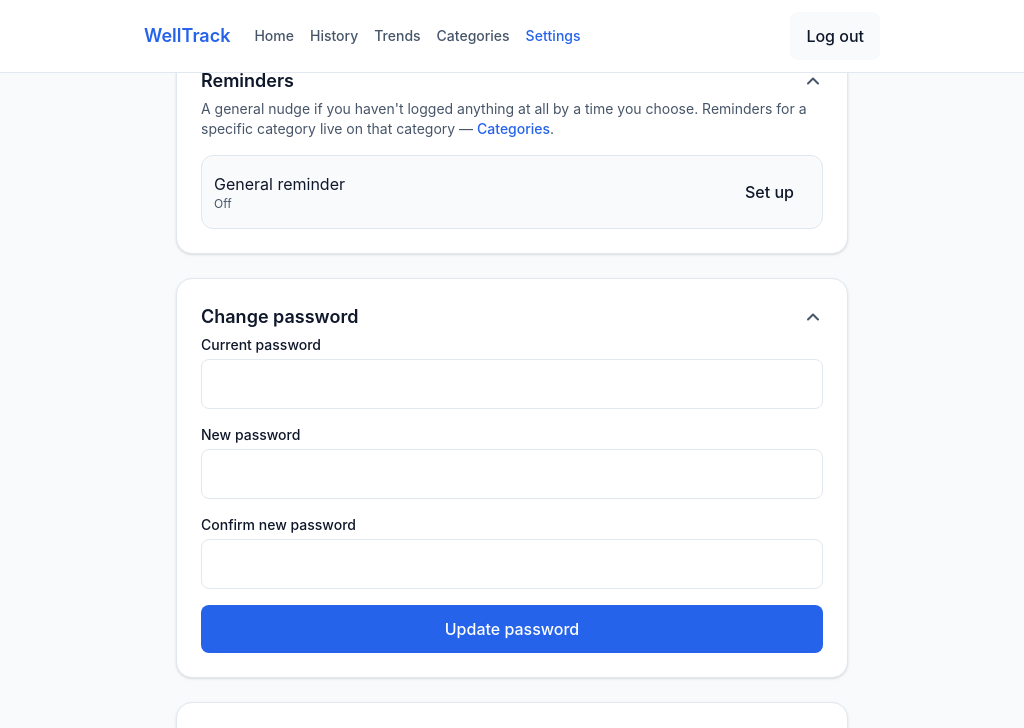
Scenario: SettingsPage — change password › requires the confirmation field to match the new password
(page scrolled)
Type "Sup3rSecret" into the password field labelled "Current password" at (512,384), box [201,359,823,409]
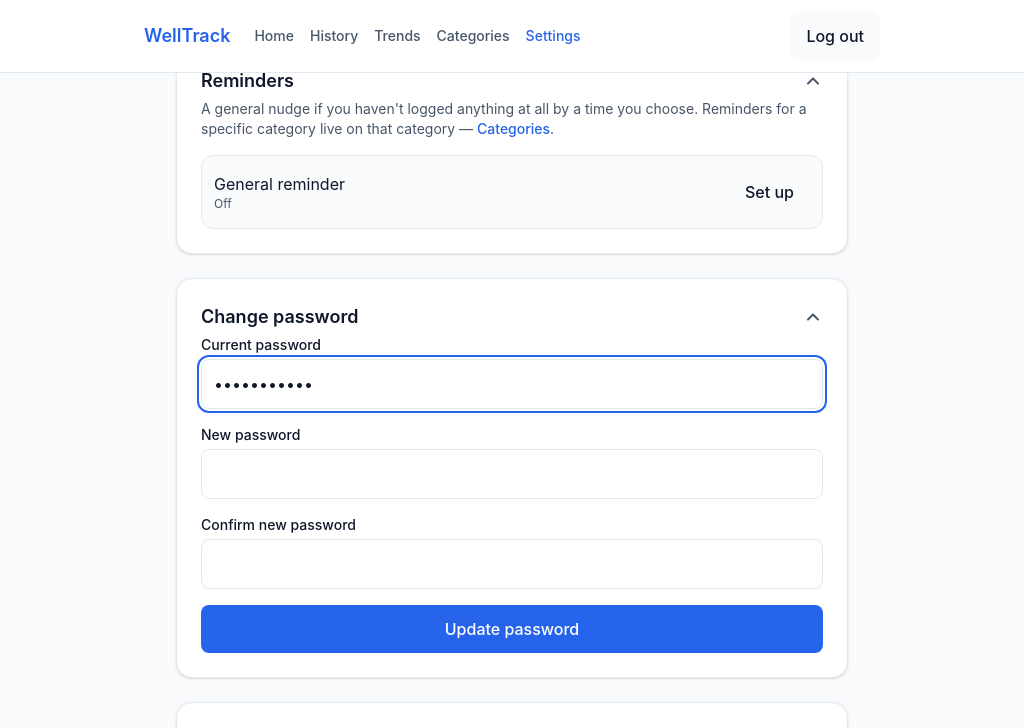
Type "NewPass1234" into the password field labelled "New password" at (512,474), box [201,449,823,499]
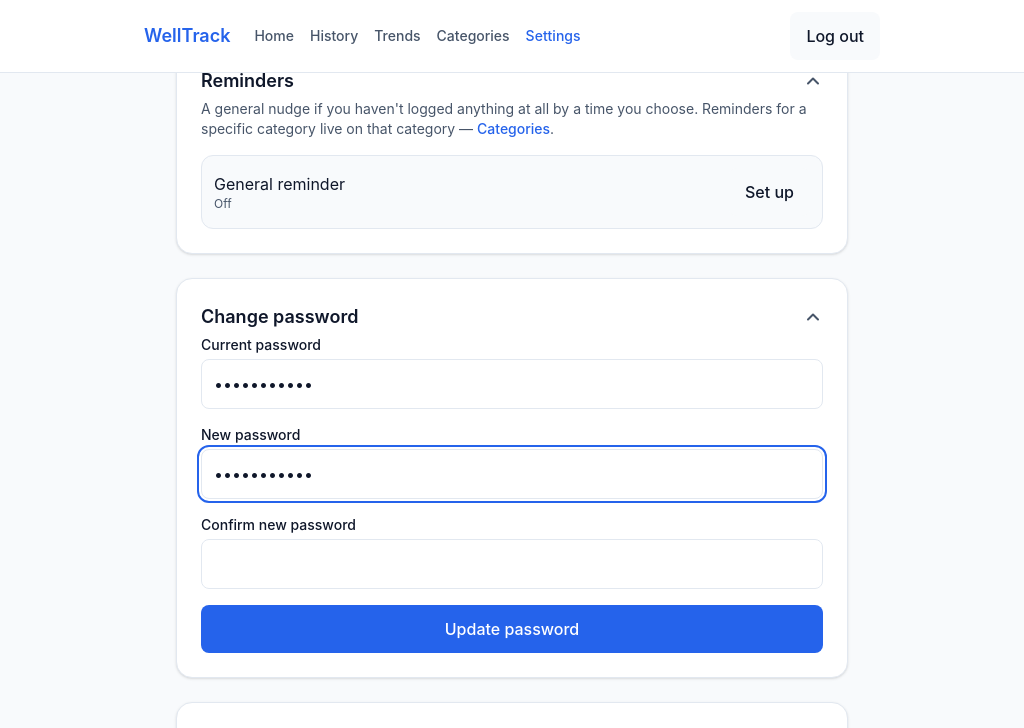
Type "Different1234" into the password field labelled "Confirm new password" at (512,564), box [201,539,823,589]
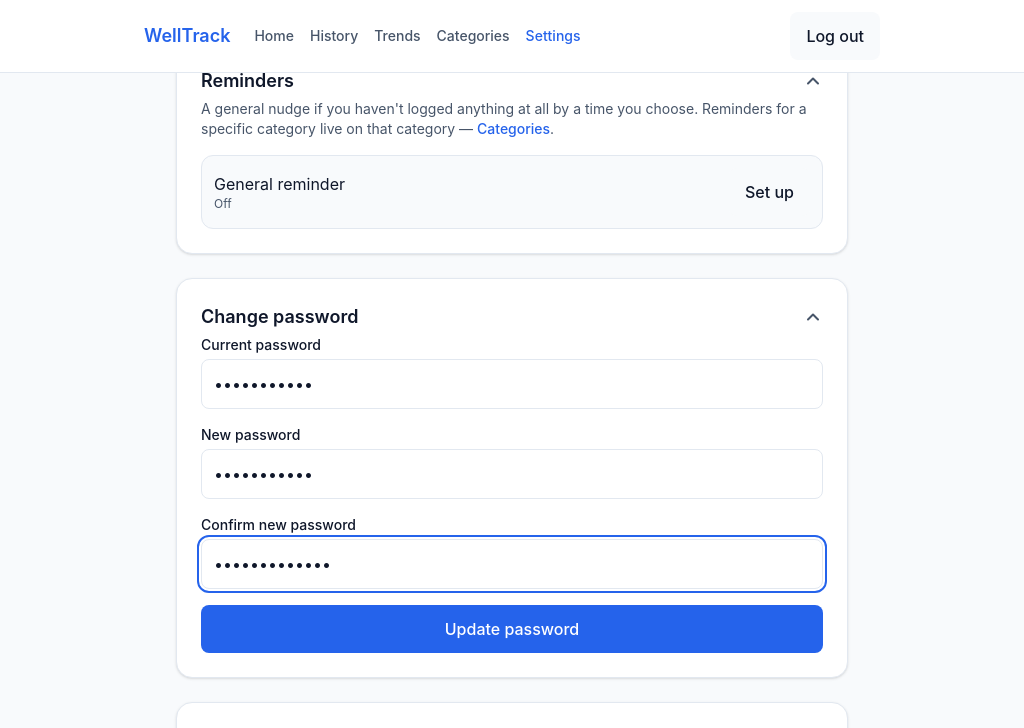
Click the button "Update password" at (512,629), box [201,605,823,653]
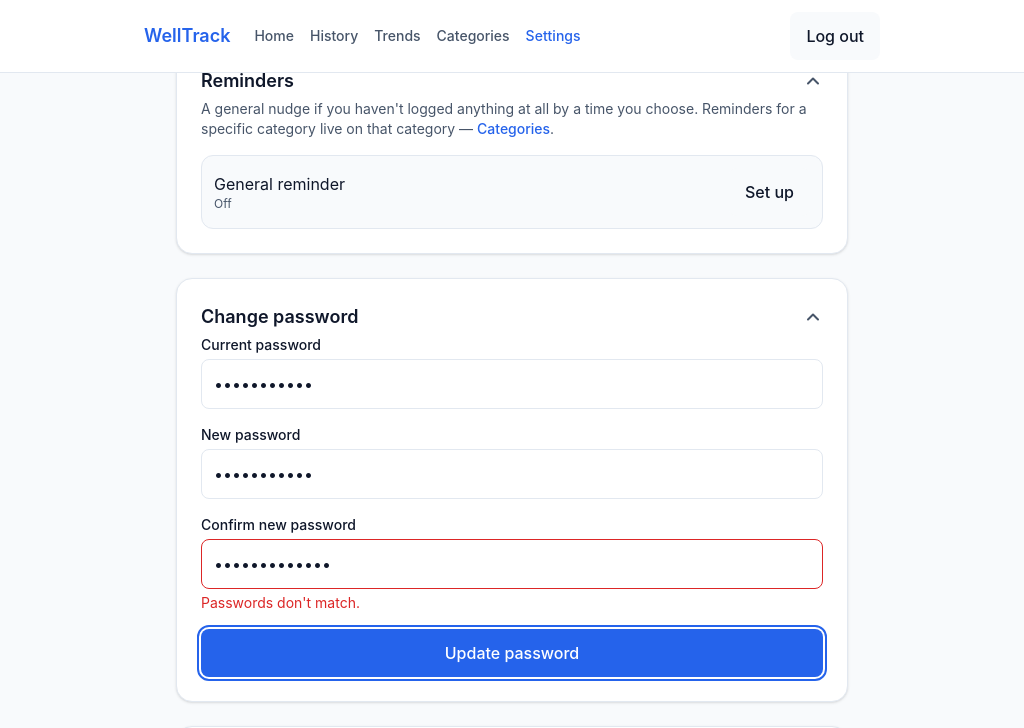
Expected: the text "Passwords don't match." is shown, [201,594,360,611]
